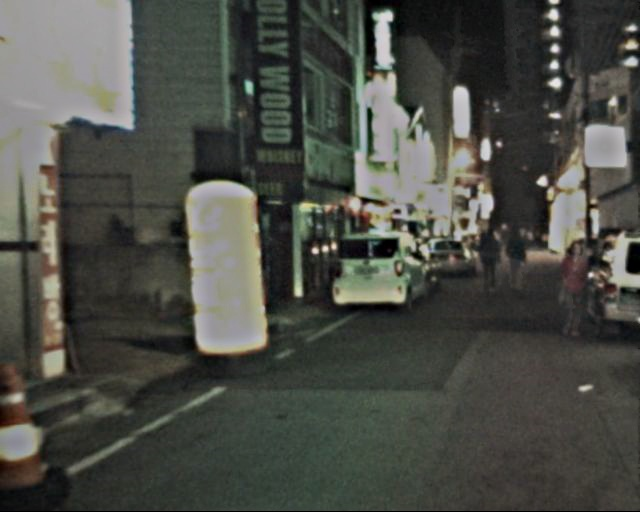person: (553, 242, 596, 339), (477, 228, 511, 295), (503, 228, 536, 296)
